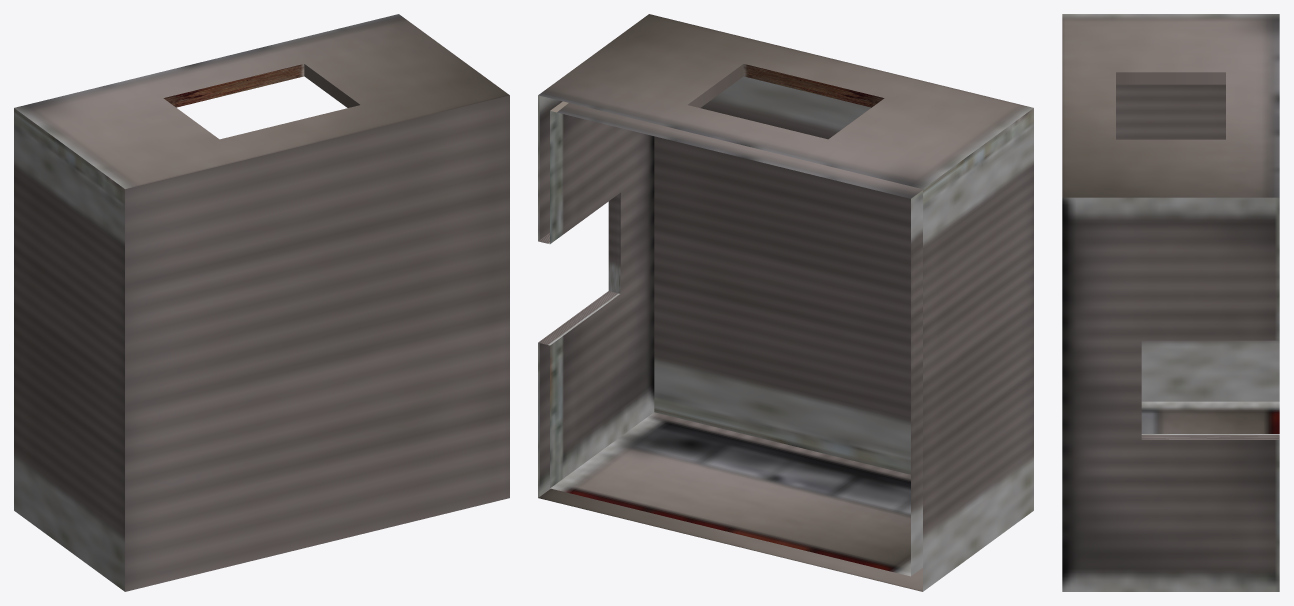
File: 4x4E_NWindow_wtf.obj
3 views of the same model, side by side, from view 1: azimuth 30°, elevation 25°; view 2: azimuth 150°, elevation 25°; view 3: azimuth 270°, elevation 25° (orthographic). The views are drawn at different scales.
Parts seen in each view (by area): view 1: group2; view 2: group2; view 3: group2.
Boxes of the visible parts, left/top/right/bottom form: group2: left=14, top=14, right=509, bottom=591; group2: left=538, top=14, right=1033, bottom=591; group2: left=1062, top=14, right=1279, bottom=591.
Size of the model in its own units: 660 by 660 by 330.
